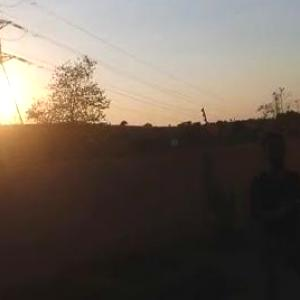follow: (237, 123, 300, 299)
